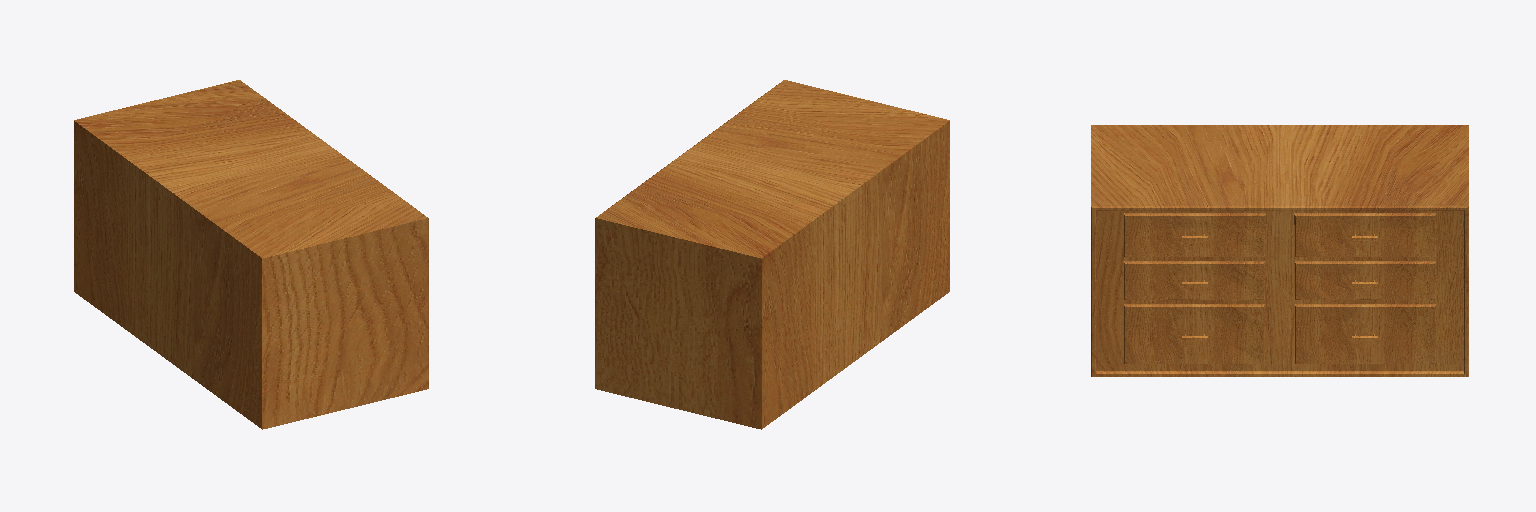
3 views of the same model, side by side, from view 1: azimuth 30°, elevation 25°; view 2: azimuth 150°, elevation 25°; view 3: azimuth 270°, elevation 25° (orthographic).
Visible parts, largest first — view 1: Dresser; view 2: Dresser; view 3: Dresser, Dresser_Drawers_Bottom_Right, Dresser_Drawers_Bottom_left, Dresser_Drawers_Top_Left, Dresser_Drawers_top_right, Dresser_Drawers_middle_left, Dresser_Drawers_Middle_right.
Part boxes in pixels (bbox=[...]): Dresser: bbox=[74, 80, 428, 429]; Dresser: bbox=[595, 80, 949, 429]; Dresser: bbox=[1091, 125, 1468, 376]; Dresser_Drawers_Bottom_Right: bbox=[1295, 304, 1435, 363]; Dresser_Drawers_Bottom_left: bbox=[1124, 304, 1264, 363]; Dresser_Drawers_Top_Left: bbox=[1124, 213, 1265, 256]; Dresser_Drawers_top_right: bbox=[1294, 213, 1435, 256]; Dresser_Drawers_middle_left: bbox=[1124, 261, 1264, 299]; Dresser_Drawers_Middle_right: bbox=[1295, 261, 1435, 299].
Size of the model in its own units: 215 by 206 by 400.
Materials: 3 (1 with a texture image).